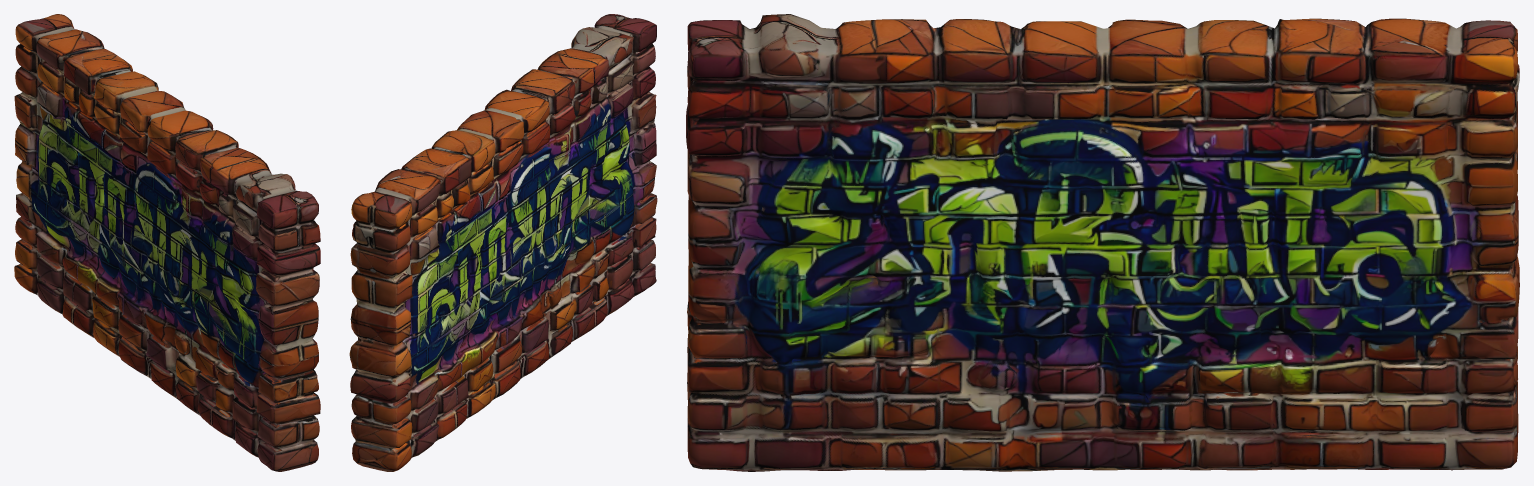
The model's file is muro2.fbx.
The picture shows the model from 3 angles, left to right: view 1: azimuth 30°, elevation 25°; view 2: azimuth 150°, elevation 25°; view 3: azimuth 270°, elevation 25°; orthographic projection. The views are drawn at different scales.
Parts seen in each view (by area): view 1: tripo_node_629342ed; view 2: tripo_node_629342ed; view 3: tripo_node_629342ed.
Boxes of the visible parts, left/top/right/bottom form: tripo_node_629342ed: left=14, top=14, right=320, bottom=471; tripo_node_629342ed: left=349, top=14, right=657, bottom=471; tripo_node_629342ed: left=686, top=14, right=1519, bottom=471.
Size of the model in its own units: 0.1145 by 0.5703 by 0.9995.
